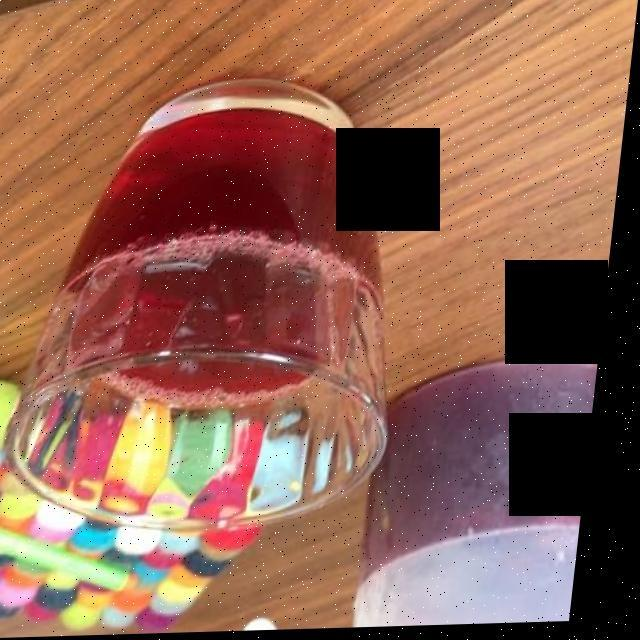drink: (46, 97, 407, 403)
